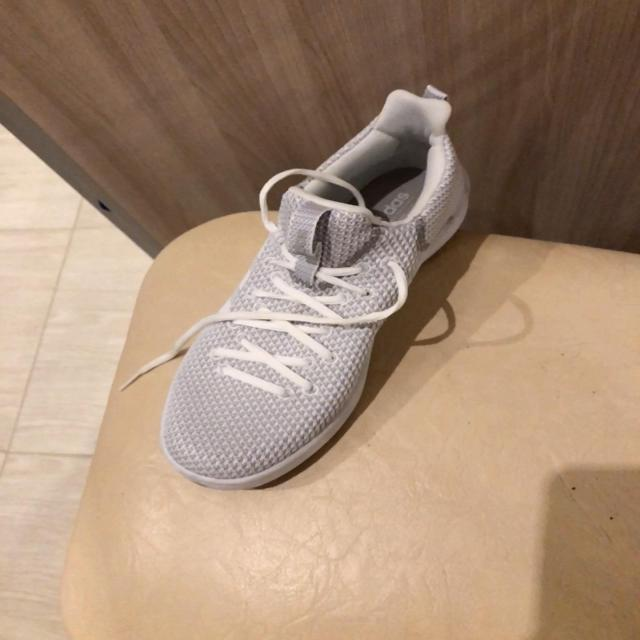shoe: (158, 86, 472, 493)
